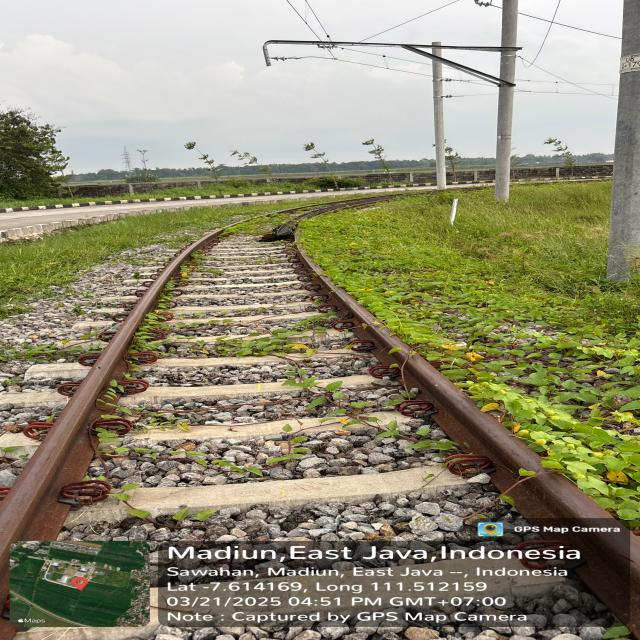rail-detection: (298, 250, 640, 638), (0, 229, 222, 600)
